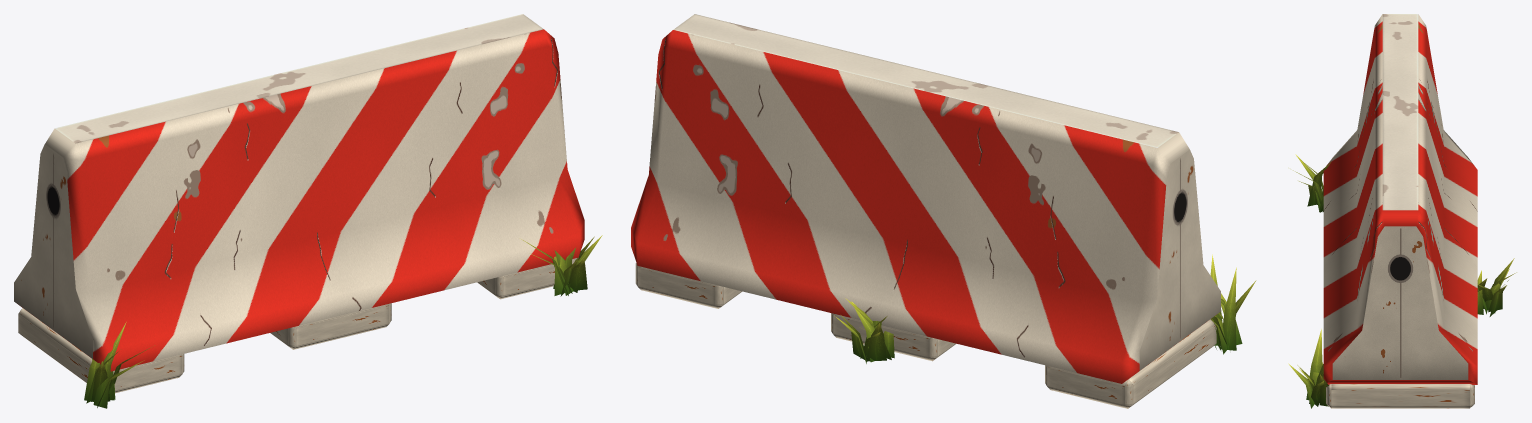
The model's file is Barrier.fbx.
The picture shows the model from 3 angles, left to right: view 1: azimuth 30°, elevation 25°; view 2: azimuth 150°, elevation 25°; view 3: azimuth 270°, elevation 25°; orthographic projection. The views are drawn at different scales.
Visible parts, largest first — view 1: Barrier_Body, Barrier_Grass; view 2: Barrier_Body, Barrier_Grass; view 3: Barrier_Body, Barrier_Grass.
Boxes of the visible parts, bbox=[...] form: Barrier_Body: bbox=[14, 14, 584, 393]; Barrier_Grass: bbox=[84, 235, 602, 408]; Barrier_Body: bbox=[631, 14, 1220, 408]; Barrier_Grass: bbox=[836, 254, 1256, 363]; Barrier_Body: bbox=[1323, 14, 1477, 408]; Barrier_Grass: bbox=[1288, 154, 1516, 408].
Bounding box in the file's own units: 2 × 0.85 × 0.9058.
Materials: 1 (1 with a texture image).
